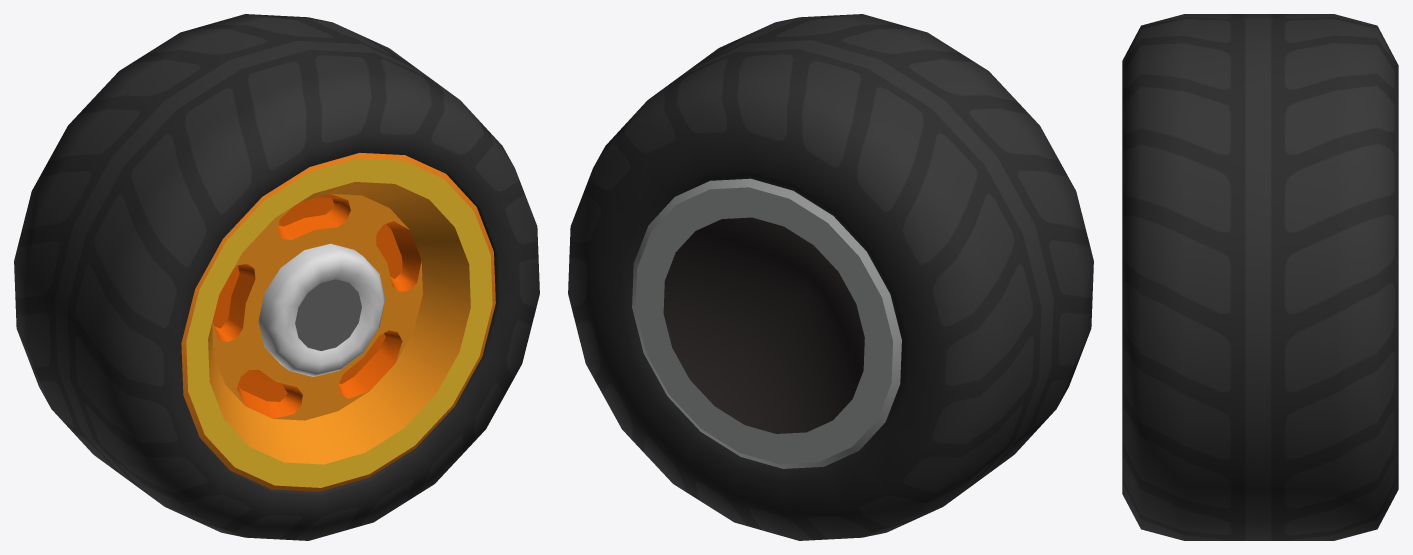
Rendered from Wheel_10.fbx.
3 renders of one model, left to right at view 1: azimuth 30°, elevation 25°; view 2: azimuth 150°, elevation 25°; view 3: azimuth 270°, elevation 25°, orthographic. The views are drawn at different scales.
Visible parts, largest first — view 1: Wheel_10; view 2: Wheel_10; view 3: Wheel_10.
Boxes of the visible parts, <box> form: Wheel_10: <box>14,14,539,540</box>; Wheel_10: <box>568,14,1093,540</box>; Wheel_10: <box>1122,14,1398,540</box>.
Bounding box in the file's own units: 95 × 50 × 95.
